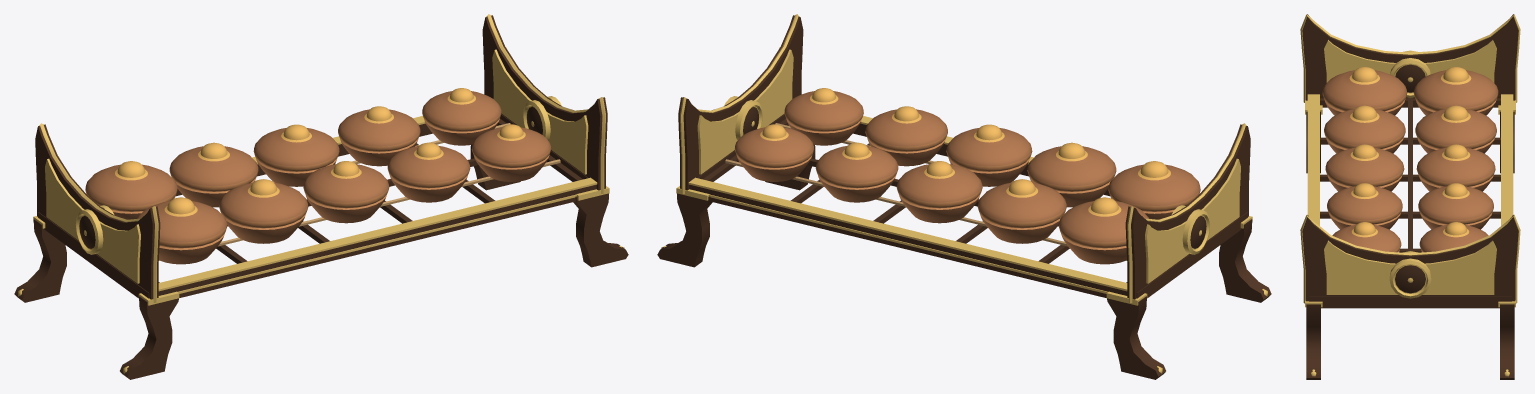
The model's file is gamelar_bonang_barung_set.fbx.
3 views of the same model, side by side, from view 1: azimuth 30°, elevation 25°; view 2: azimuth 150°, elevation 25°; view 3: azimuth 270°, elevation 25° (orthographic). The views are drawn at different scales.
Parts seen in each view (by area): view 1: BonangBarungSet_Mesh; view 2: BonangBarungSet_Mesh; view 3: BonangBarungSet_Mesh.
Part boxes in pixels (x1,y1,x2,y2): BonangBarungSet_Mesh: (14, 14, 628, 379); BonangBarungSet_Mesh: (657, 14, 1271, 379); BonangBarungSet_Mesh: (1300, 14, 1520, 379).
Bounding box in the file's own units: 1.46 × 0.4666 × 0.6029.
